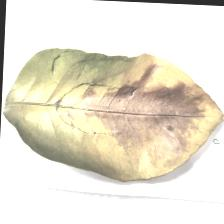black spot: (58, 73, 198, 156)
